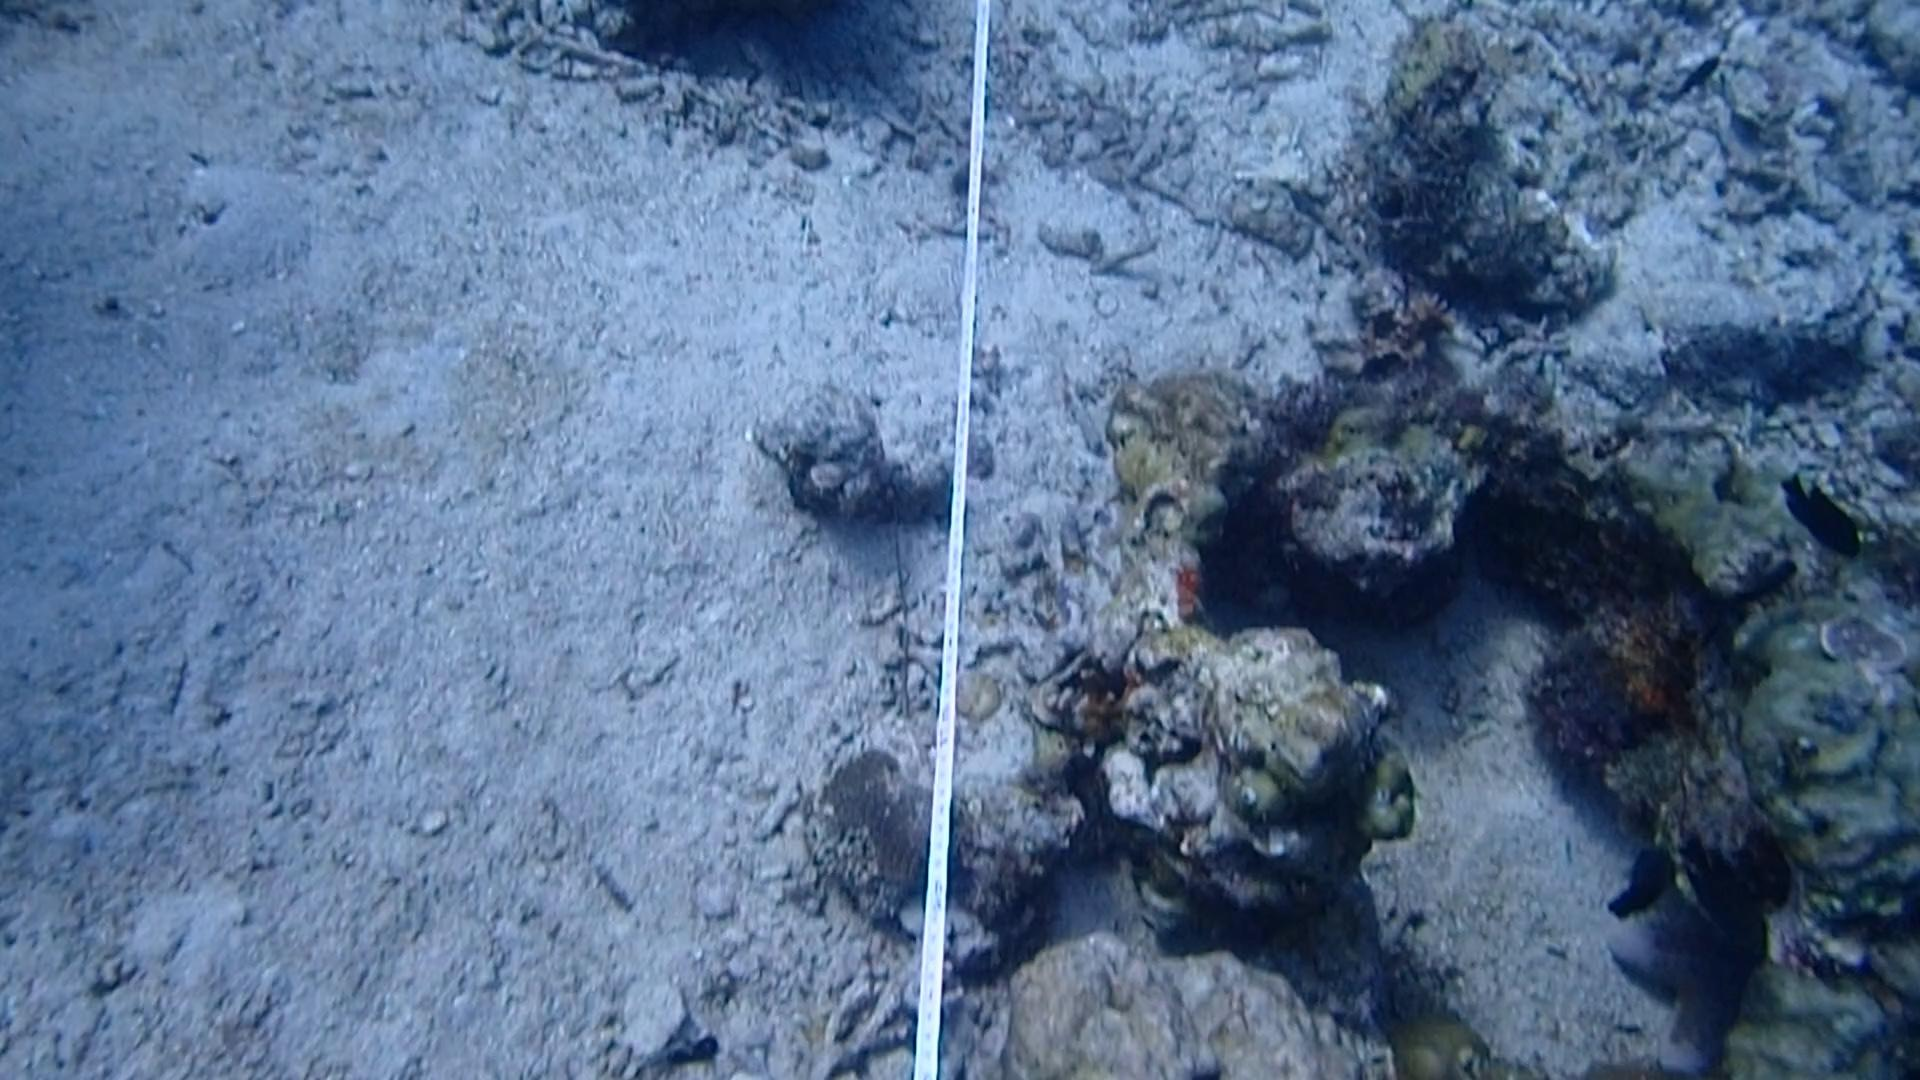Dark Fish: (1660, 823, 1787, 976), (1772, 454, 1873, 572), (1593, 832, 1687, 924), (1660, 44, 1737, 112)
